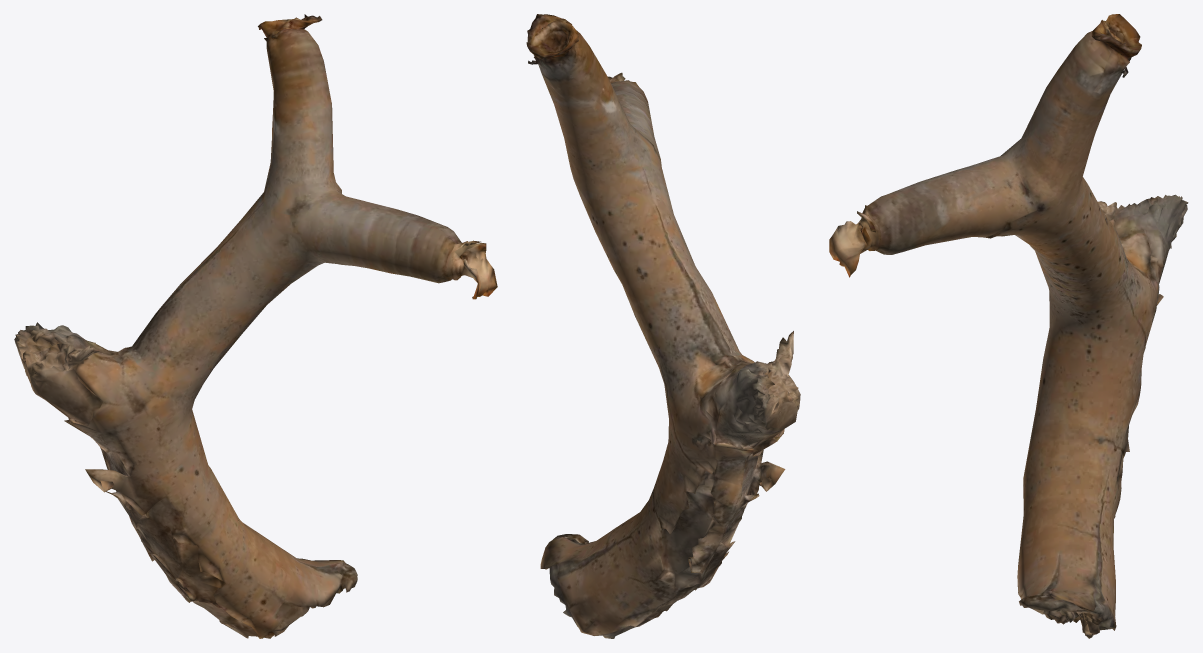
Rendered from dead_quiver_branch_01.glb.
3 renders of one model, left to right at view 1: azimuth 30°, elevation 25°; view 2: azimuth 150°, elevation 25°; view 3: azimuth 270°, elevation 25°, orthographic. The views are drawn at different scales.
Parts seen in each view (by area): view 1: dead_quiver_branch_01; view 2: dead_quiver_branch_01; view 3: dead_quiver_branch_01.
Boxes of the visible parts, x1,y1,x2,y2 form: dead_quiver_branch_01: (14, 14, 497, 638); dead_quiver_branch_01: (526, 14, 800, 638); dead_quiver_branch_01: (829, 14, 1188, 638).
Size of the model in its own units: 0.2549 by 0.4384 by 0.2268.
1 material, 1 textured.
